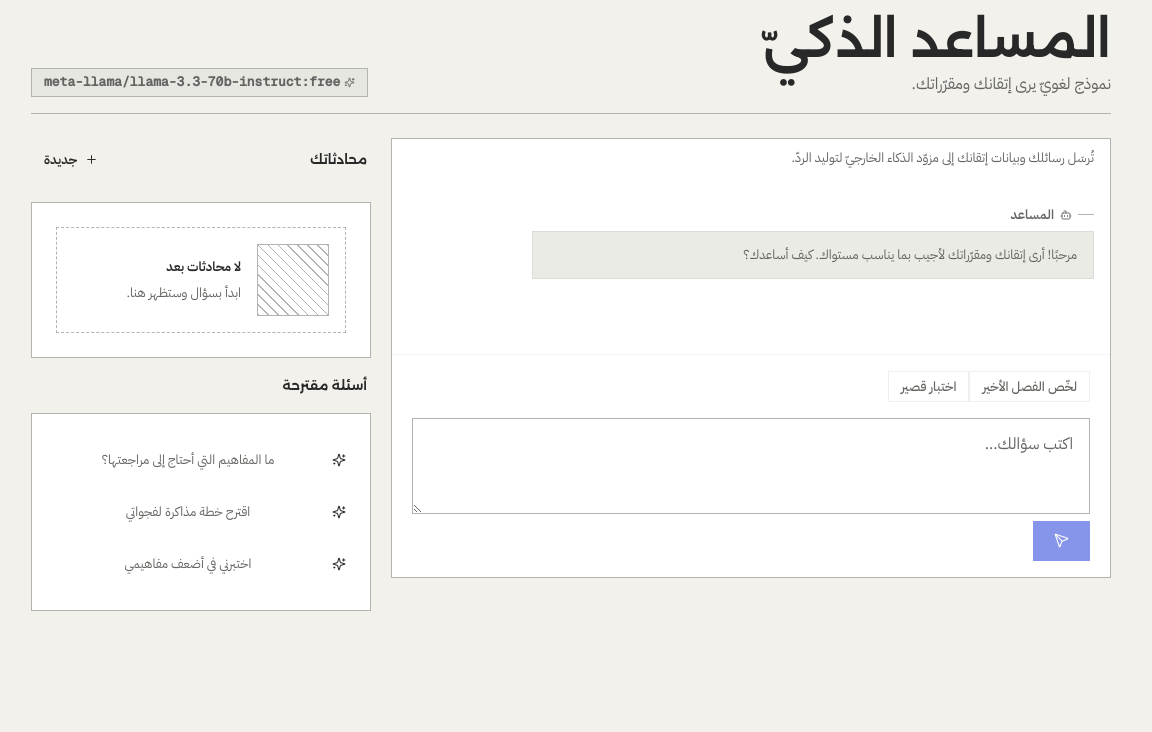
Test: AiAssistantPage — SSE consumption (r323 B1.1) › the daily-quota 429 renders the «وصلتَ حدَّ اليوم» card with the SERVER copy — not an error row
Type "سؤال بعد الحصّة" into the text box named "اكتب سؤالك للمساعد" at (751, 466), box [412,418,1090,514]
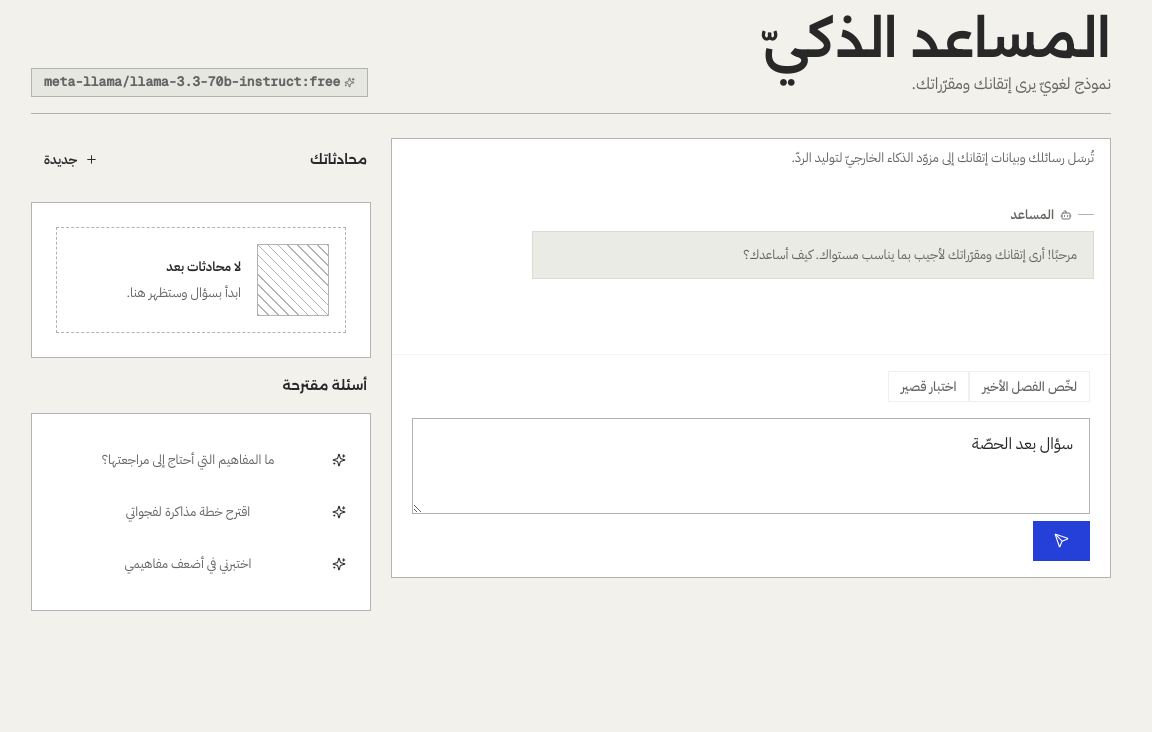
Click the button named "إرسال" at (1062, 540), box [1033,520,1090,560]
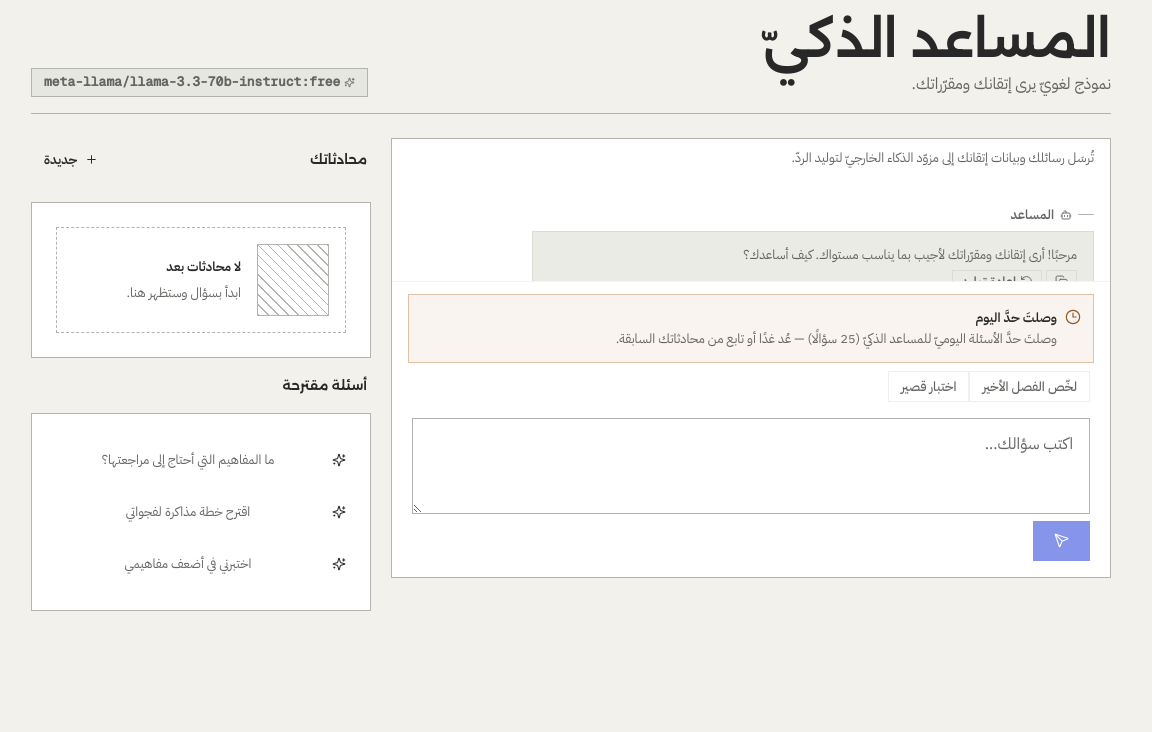
Check: the text "وصلتَ حدَّ اليوم" is shown, box [976,308,1057,327]
Check: the text "وصلتَ حدَّ الأسئلة اليوميّ للمساعد الذكيّ (25 سؤالًا)" is shown, box [616,329,1057,348]
